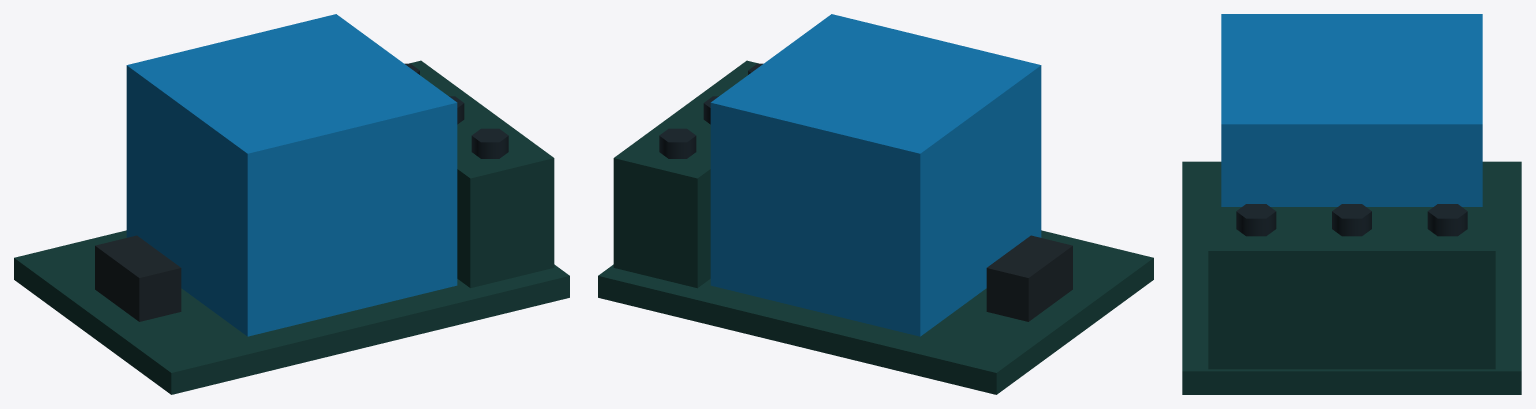
Rendered from relay-low.glb.
3 renders of one model, left to right at view 1: azimuth 30°, elevation 25°; view 2: azimuth 150°, elevation 25°; view 3: azimuth 270°, elevation 25°, orthographic. The views are drawn at different scales.
Parts seen in each view (by area): view 1: relay-enclosure, pcb-solder-mask, matte-polymer, black-anodised; view 2: relay-enclosure, pcb-solder-mask, matte-polymer, black-anodised; view 3: pcb-solder-mask, relay-enclosure, black-anodised.
Part boxes in pixels (left/top/right/bottom): relay-enclosure: left=126, top=14, right=457, bottom=336; pcb-solder-mask: left=14, top=60, right=569, bottom=394; matte-polymer: left=95, top=235, right=181, bottom=321; black-anodised: left=404, top=63, right=508, bottom=158; relay-enclosure: left=710, top=14, right=1041, bottom=336; pcb-solder-mask: left=598, top=60, right=1153, bottom=394; matte-polymer: left=986, top=235, right=1072, bottom=321; black-anodised: left=659, top=63, right=763, bottom=158; pcb-solder-mask: left=1182, top=161, right=1521, bottom=394; relay-enclosure: left=1221, top=14, right=1482, bottom=206; black-anodised: left=1236, top=204, right=1467, bottom=236.
Bounding box in the file's own units: 0.57 × 0.28 × 0.39.
